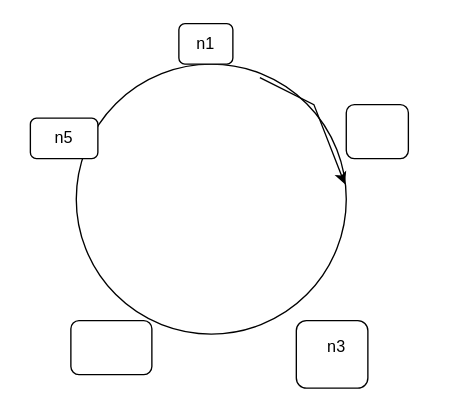
Image size: 450x412. Some labels were removed from this diagram. Here are the shapes that lost their labels. From the top down, the box of each, then its label:
(345, 103, 408, 159): n2
(70, 319, 152, 375): n4
